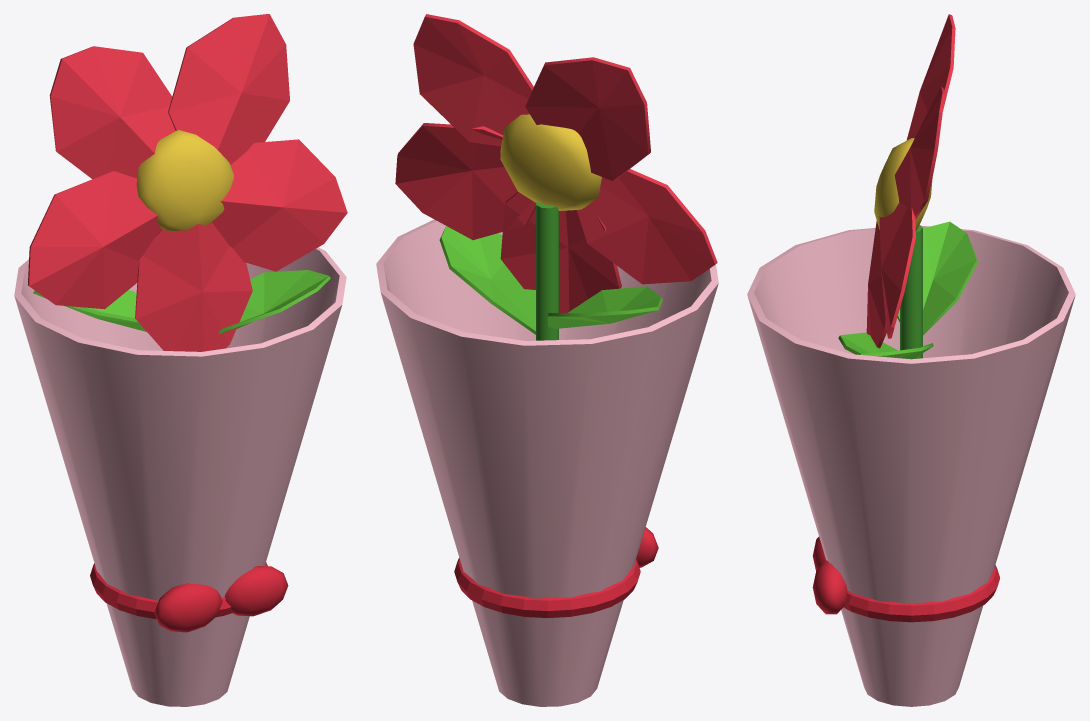
The model's file is Pot_L8.fbx.
3 views of the same model, side by side, from view 1: azimuth 30°, elevation 25°; view 2: azimuth 150°, elevation 25°; view 3: azimuth 270°, elevation 25° (orthographic). The views are drawn at different scales.
Parts seen in each view (by area): view 1: L8_Wrap, L8_Petal_007, L8_Petal_008, L8_Petal_009, L8_Petal_010, L8_Petal_006, L8_Flower_Center001, L8_Leaf_R, L8_Bow_L, L8_Bow_R, L8_Ribbon, L8_Leaf_L; view 2: L8_Wrap, L8_Petal_007, L8_Petal_009, L8_Petal_010, L8_Petal_008, L8_Flower_Center001, L8_Petal_006, L8_Leaf_R, L8_Ribbon, L8_Stem, L8_Leaf_L, L8_Bow_L; view 3: L8_Wrap, L8_Leaf_L, L8_Petal_010, L8_Petal_009, L8_Ribbon, L8_Petal_008, L8_Stem, L8_Flower_Center001, L8_Petal_006, L8_Bow_R, L8_Leaf_R.
Part boxes in pixels (left/top/right/bottom): L8_Wrap: left=14, top=247, right=346, bottom=706; L8_Petal_007: left=28, top=171, right=161, bottom=309; L8_Petal_008: left=49, top=46, right=175, bottom=178; L8_Petal_009: left=168, top=14, right=289, bottom=164; L8_Petal_010: left=212, top=139, right=347, bottom=271; L8_Petal_006: left=135, top=222, right=252, bottom=351; L8_Flower_Center001: left=136, top=130, right=233, bottom=230; L8_Leaf_R: left=219, top=270, right=330, bottom=334; L8_Bow_L: left=154, top=583, right=222, bottom=632; L8_Bow_R: left=225, top=566, right=288, bottom=616; L8_Ribbon: left=90, top=562, right=267, bottom=619; L8_Leaf_L: left=33, top=290, right=146, bottom=331; L8_Wrap: left=376, top=219, right=718, bottom=706; L8_Petal_007: left=576, top=169, right=717, bottom=284; L8_Petal_009: left=413, top=14, right=533, bottom=146; L8_Petal_010: left=395, top=123, right=536, bottom=239; L8_Petal_008: left=525, top=57, right=650, bottom=180; L8_Flower_Center001: left=500, top=114, right=601, bottom=210; L8_Petal_006: left=500, top=192, right=621, bottom=312; L8_Leaf_R: left=439, top=226, right=535, bottom=334; L8_Ribbon: left=454, top=558, right=640, bottom=617; L8_Stem: left=536, top=202, right=558, bottom=340; L8_Leaf_L: left=547, top=286, right=662, bottom=328; L8_Bow_L: left=636, top=527, right=658, bottom=567; L8_Wrap: left=747, top=225, right=1075, bottom=706; L8_Leaf_L: left=897, top=221, right=977, bottom=335; L8_Petal_010: left=879, top=202, right=915, bottom=338; L8_Petal_009: left=894, top=87, right=945, bottom=219; L8_Ribbon: left=843, top=565, right=999, bottom=622; L8_Petal_008: left=906, top=14, right=955, bottom=140; L8_Stem: left=900, top=225, right=922, bottom=358; L8_Flower_Center001: left=874, top=138, right=932, bottom=231; L8_Petal_006: left=866, top=221, right=886, bottom=348; L8_Bow_R: left=812, top=560, right=847, bottom=614; L8_Leaf_R: left=838, top=332, right=933, bottom=359.
Bounding box in the file's own units: 24.92 × 48.45 × 22.97.
